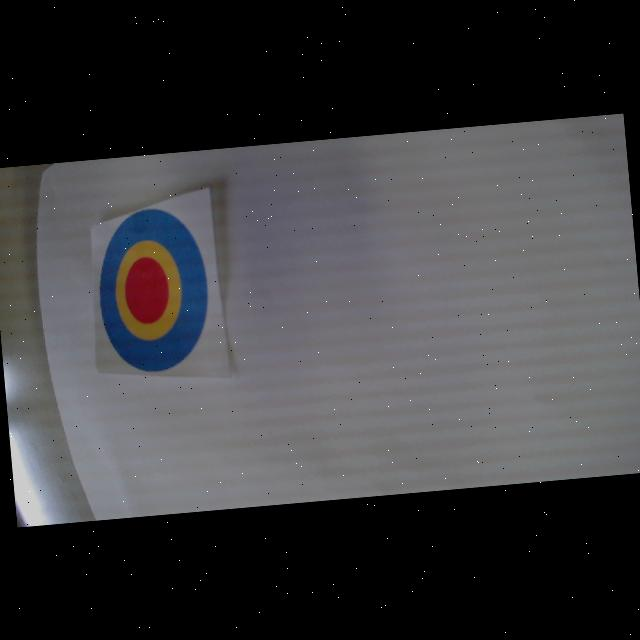COGNITIVE: (93, 204, 215, 377)
